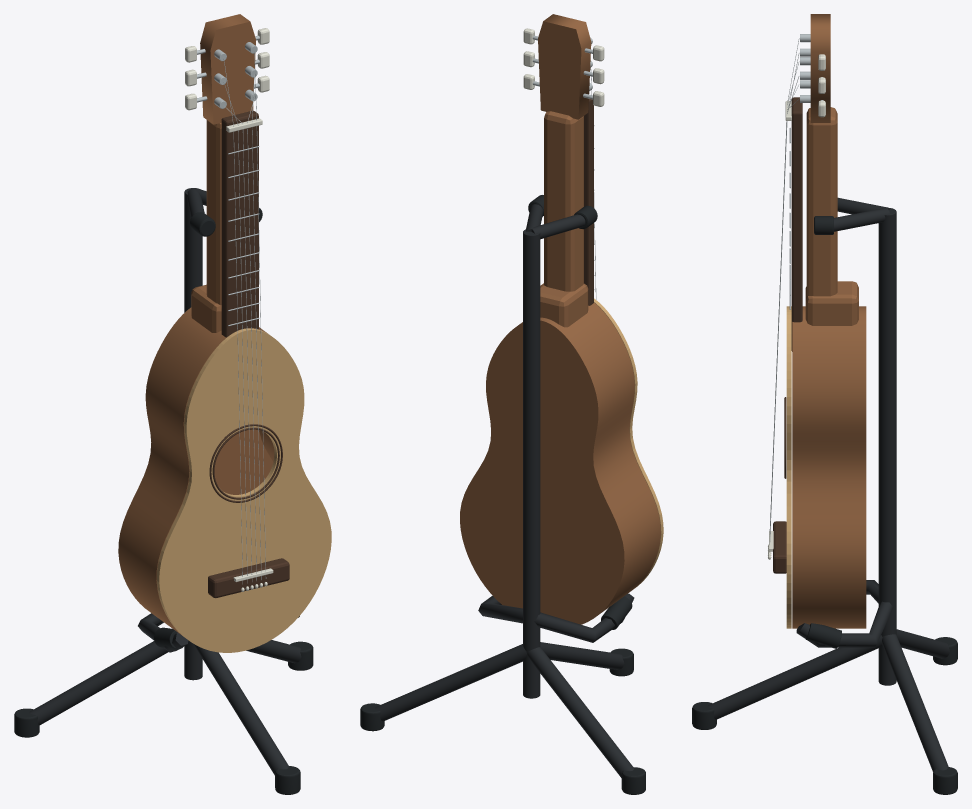
File: city-acoustic-guitar-stand.glb
3 views of the same model, side by side, from view 1: azimuth 30°, elevation 25°; view 2: azimuth 150°, elevation 25°; view 3: azimuth 270°, elevation 25° (orthographic). The views are drawn at different scales.
Parts seen in each view (by area): view 1: Assembly | Pale untextured soundboard wood, Assembly | Warm plain wooden case, Assembly | Dark wooden bridge and board, Assembly | Black instrument finish, Assembly | Satin plated fittings, Assembly | Dark rubber pads, Assembly | Warm ivory keys and trim; view 2: Assembly | Warm plain wooden case, Assembly | Black instrument finish, Assembly | Dark rubber pads, Assembly | Dark wooden bridge and board, Assembly | Pale untextured soundboard wood, Assembly | Warm ivory keys and trim; view 3: Assembly | Warm plain wooden case, Assembly | Black instrument finish, Assembly | Dark wooden bridge and board, Assembly | Dark rubber pads, Assembly | Pale untextured soundboard wood, Assembly | Satin plated fittings, Assembly | Warm ivory keys and trim.
Boxes of the visible parts, bbox=[...] form: Assembly | Pale untextured soundboard wood: bbox=[157, 328, 331, 652]; Assembly | Warm plain wooden case: bbox=[118, 14, 274, 635]; Assembly | Dark wooden bridge and board: bbox=[208, 110, 289, 598]; Assembly | Black instrument finish: bbox=[29, 188, 301, 775]; Assembly | Satin plated fittings: bbox=[197, 35, 266, 584]; Assembly | Dark rubber pads: bbox=[14, 208, 313, 794]; Assembly | Warm ivory keys and trim: bbox=[185, 28, 273, 591]; Assembly | Warm plain wooden case: bbox=[460, 14, 660, 624]; Assembly | Black instrument finish: bbox=[375, 204, 634, 777]; Assembly | Dark rubber pads: bbox=[360, 195, 645, 794]; Assembly | Dark wooden bridge and board: bbox=[584, 99, 593, 305]; Assembly | Pale untextured soundboard wood: bbox=[594, 298, 663, 586]; Assembly | Warm ivory keys and trim: bbox=[523, 28, 604, 106]; Assembly | Warm plain wooden case: bbox=[792, 14, 866, 628]; Assembly | Black instrument finish: bbox=[707, 197, 949, 771]; Assembly | Dark wooden bridge and board: bbox=[773, 97, 802, 573]; Assembly | Dark rubber pads: bbox=[692, 216, 957, 794]; Assembly | Pale untextured soundboard wood: bbox=[786, 306, 791, 628]; Assembly | Satin plated fittings: bbox=[769, 34, 823, 544]; Assembly | Warm ivory keys and trim: bbox=[768, 54, 825, 559].
Bounding box in the file's own units: 0.4801 × 1.12 × 0.3845.
